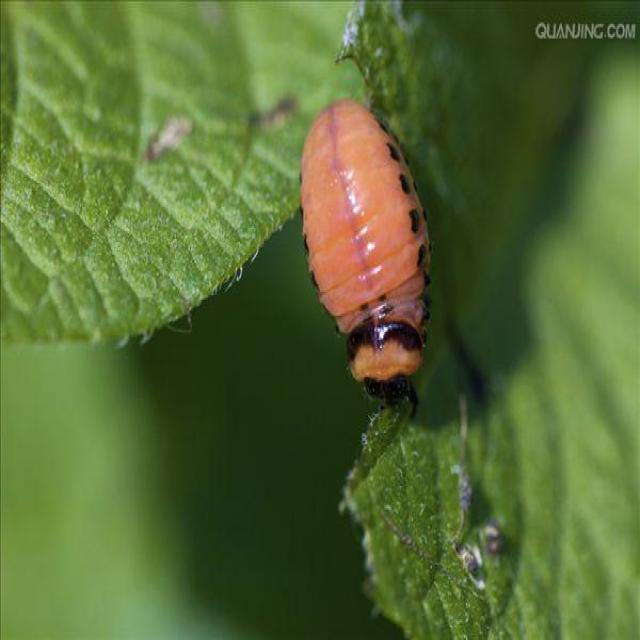ShuCaiHuaBanChong-Larva-: (295, 90, 458, 406)
